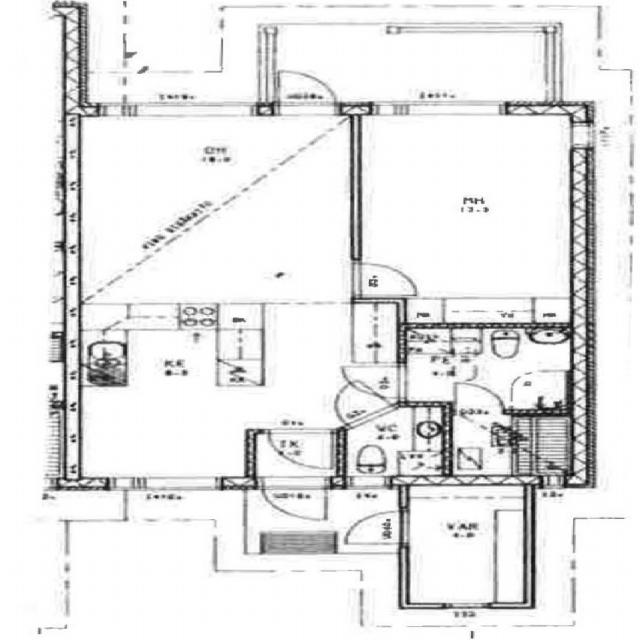door: (312, 379, 396, 428), (263, 476, 326, 525), (278, 69, 336, 115), (269, 428, 332, 469), (342, 511, 408, 543), (351, 264, 414, 295), (344, 367, 406, 398), (456, 382, 504, 414)
